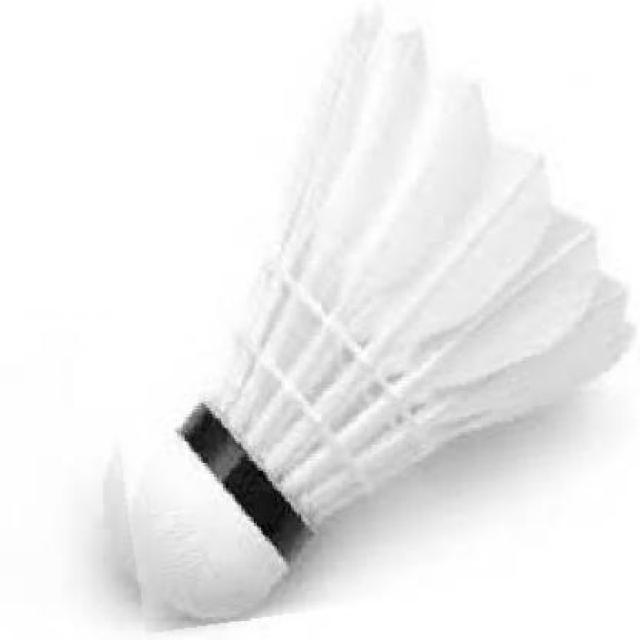Shuttlecock: (83, 0, 640, 617)
